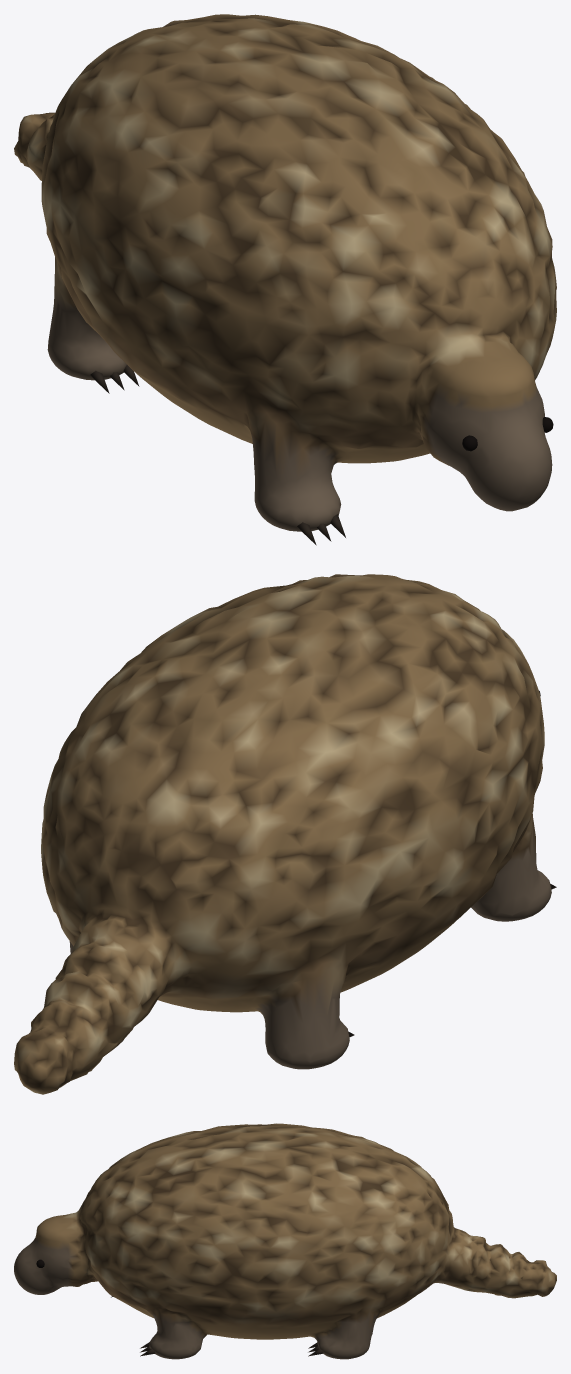
Rendered from GlyptotheriumTexanum.fbx.
The picture shows the model from 3 angles, top to bottom: view 1: azimuth 30°, elevation 25°; view 2: azimuth 150°, elevation 25°; view 3: azimuth 270°, elevation 25°; orthographic projection. The views are drawn at different scales.
Parts seen in each view (by area): view 1: GlyptotheriumTexanum; view 2: GlyptotheriumTexanum; view 3: GlyptotheriumTexanum.
Part boxes in pixels (left/top/right/bottom): GlyptotheriumTexanum: left=14, top=14, right=556, bottom=545; GlyptotheriumTexanum: left=14, top=574, right=556, bottom=1094; GlyptotheriumTexanum: left=14, top=1123, right=556, bottom=1359.
Bounding box in the file's own units: 0.8142 × 0.7179 × 1.87.
